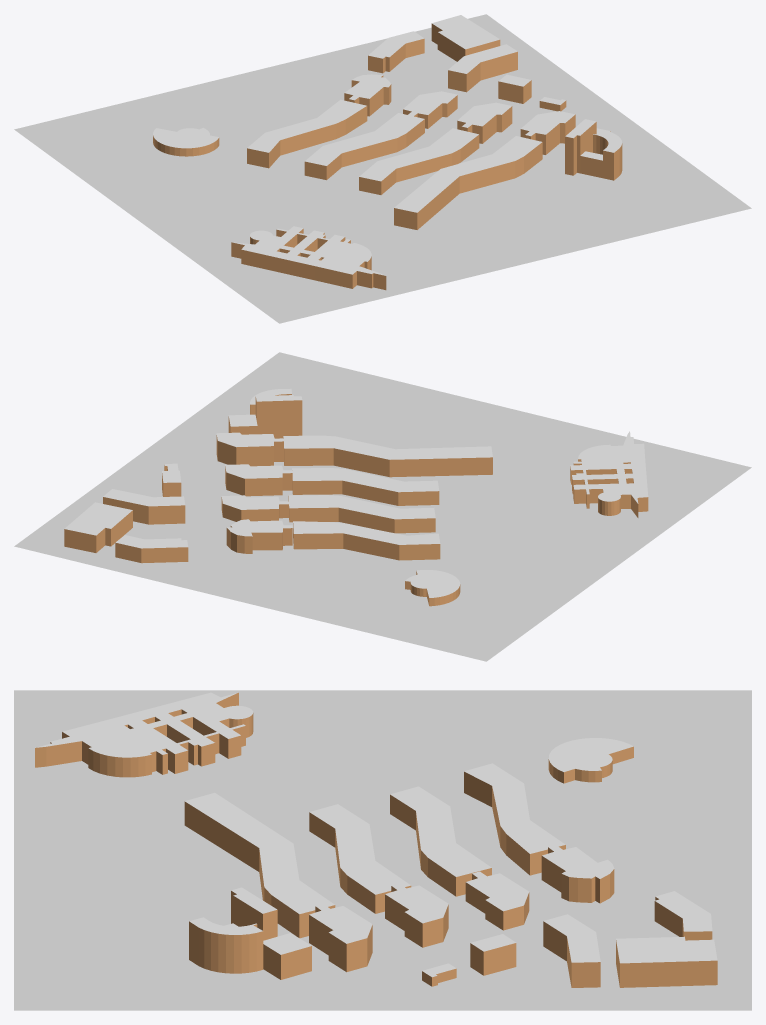
The model's file is budildings.dae.
The picture shows the model from 3 angles, top to bottom: view 1: azimuth 30°, elevation 25°; view 2: azimuth 150°, elevation 25°; view 3: azimuth 270°, elevation 25°; orthographic projection. The views are drawn at different scales.
Visible parts, largest first — view 1: Plane, meishu, A, D, C, B, XingZeng, HE, HC, J, AJ, BJ (+4 smaller); view 2: Plane, A, meishu, D, C, B, XingZeng, HC, AJ, HE, BJ, DJ (+3 smaller); view 3: Plane, meishu, A, XingZeng, C, HC, B, D, AJ, DJ, BJ, J (+5 smaller).
Boxes of the visible parts, bbox=[...] form: Plane: bbox=[14, 14, 751, 323]; meishu: bbox=[231, 226, 386, 290]; A: bbox=[394, 136, 542, 229]; D: bbox=[247, 99, 367, 168]; C: bbox=[304, 113, 424, 180]; B: bbox=[359, 128, 479, 194]; XingZeng: bbox=[565, 119, 622, 180]; HE: bbox=[448, 44, 517, 92]; HC: bbox=[431, 15, 500, 61]; J: bbox=[153, 128, 219, 156]; AJ: bbox=[520, 111, 575, 154]; BJ: bbox=[457, 102, 512, 143]; Plane: bbox=[14, 352, 751, 661]; A: bbox=[283, 435, 492, 477]; meishu: bbox=[570, 431, 648, 517]; D: bbox=[293, 521, 440, 560]; C: bbox=[288, 495, 435, 533]; B: bbox=[292, 468, 439, 505]; XingZeng: bbox=[228, 389, 302, 438]; HC: bbox=[64, 502, 132, 552]; AJ: bbox=[216, 432, 283, 466]; HE: bbox=[103, 489, 185, 524]; BJ: bbox=[225, 464, 292, 496]; DJ: bbox=[226, 519, 292, 553]; Plane: bbox=[14, 690, 751, 1010]; meishu: bbox=[35, 692, 253, 777]; A: bbox=[184, 793, 335, 938]; XingZeng: bbox=[189, 887, 311, 979]; C: bbox=[390, 786, 491, 896]; HC: bbox=[616, 936, 717, 987]; B: bbox=[309, 804, 411, 913]; D: bbox=[464, 763, 565, 875]; AJ: bbox=[309, 904, 372, 972]; DJ: bbox=[541, 845, 614, 903]; BJ: bbox=[385, 883, 448, 947]; J: bbox=[548, 738, 633, 783].
Bounding box in the file's own units: 471 × 458 × 35.77.
